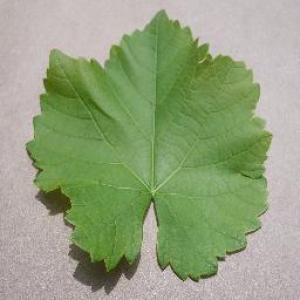Folha: (25, 8, 273, 281)
